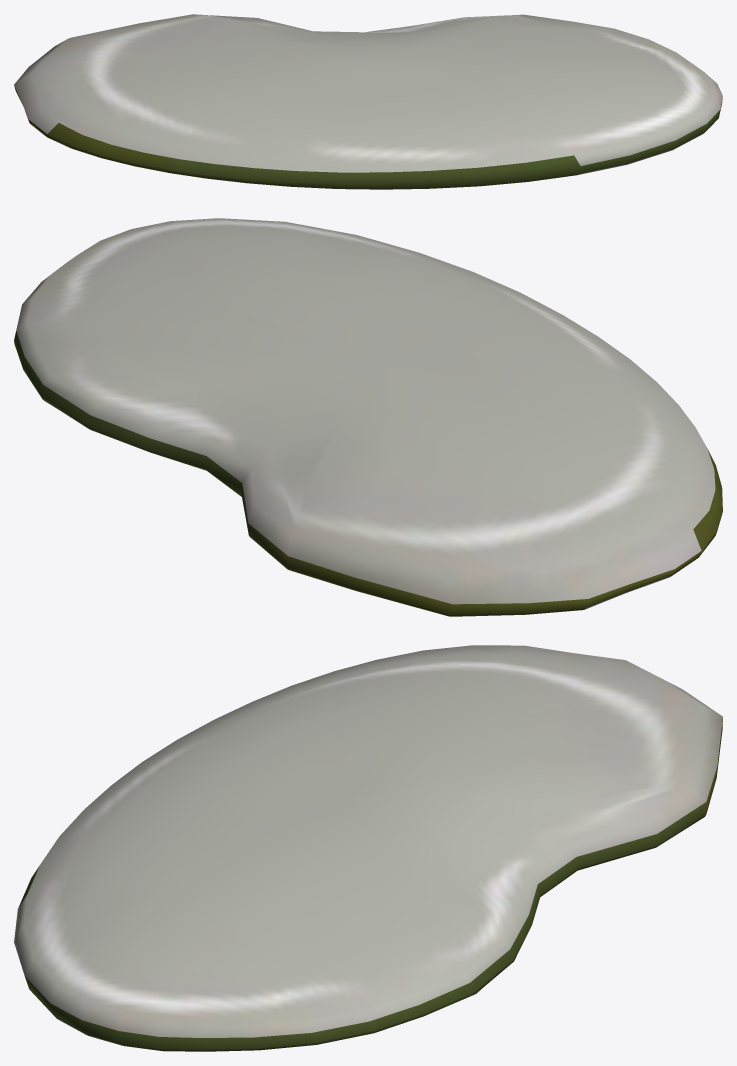
The model's file is TV_Khong bao.fbx.
The picture shows the model from 3 angles, top to bottom: view 1: azimuth 30°, elevation 25°; view 2: azimuth 150°, elevation 25°; view 3: azimuth 270°, elevation 25°; orthographic projection. The views are drawn at different scales.
Visible parts, largest first — view 1: TV_Khong bao; view 2: TV_Khong bao; view 3: TV_Khong bao.
Boxes of the visible parts, x1,y1,x2,y2 form: TV_Khong bao: (14, 14, 722, 189); TV_Khong bao: (14, 218, 722, 616); TV_Khong bao: (14, 645, 722, 1051).
Bounding box in the file's own units: 81.52 × 6.37 × 63.92.
1 material, 1 textured.
